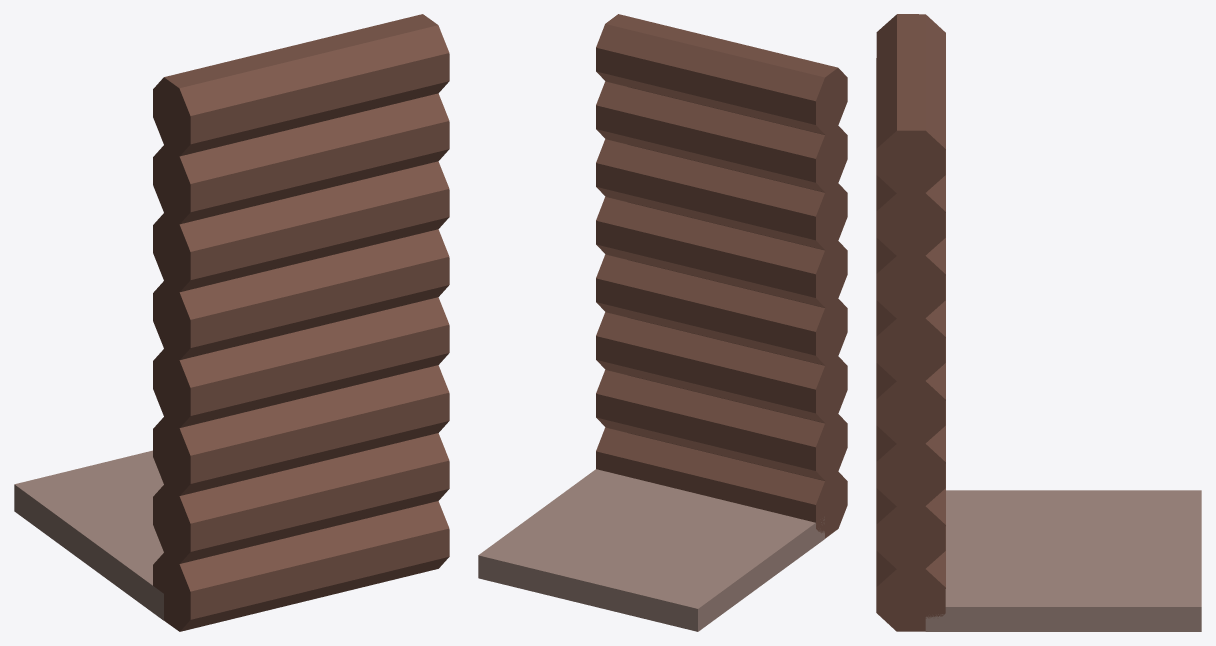
The model's file is Wall(1).fbx.
3 renders of one model, left to right at view 1: azimuth 30°, elevation 25°; view 2: azimuth 150°, elevation 25°; view 3: azimuth 270°, elevation 25°, orthographic. The views are drawn at different scales.
Parts seen in each view (by area): view 1: WoodWall; view 2: WoodWall; view 3: WoodWall.
Boxes of the visible parts, x1,y1,x2,y2 form: WoodWall: (14, 14, 449, 631); WoodWall: (478, 14, 847, 631); WoodWall: (876, 14, 1201, 631).
Bounding box in the file's own units: 1 × 2.01 × 1.18.
Materials: 1 (1 with a texture image).
